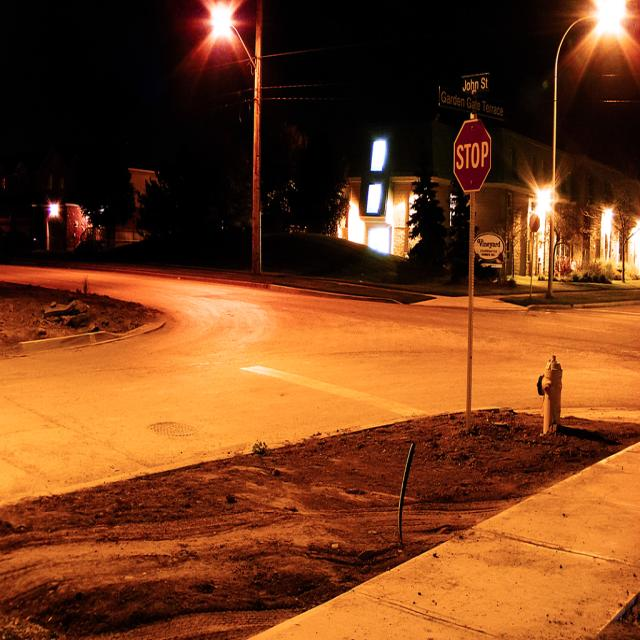Stop-sign: (452, 119, 492, 194)
